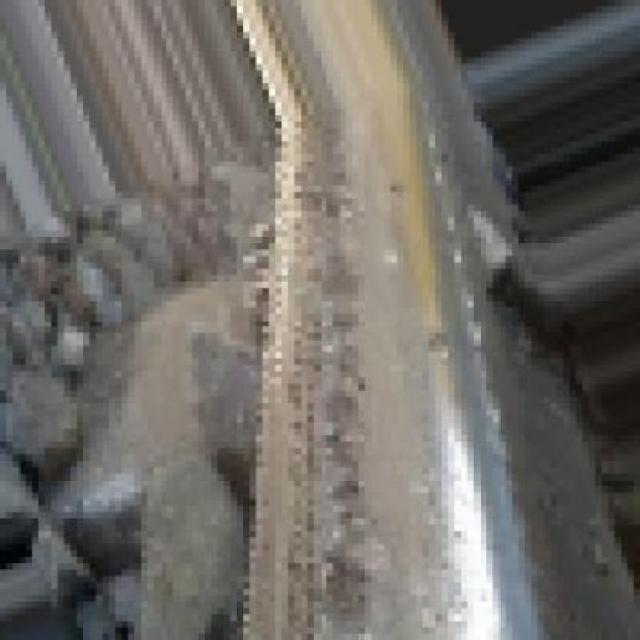defective: (87, 1, 640, 640)
